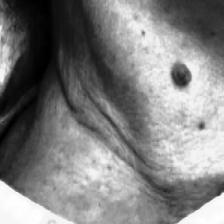Benign Marking or Mole: (169, 58, 192, 89), (196, 119, 208, 133), (137, 26, 148, 39)
